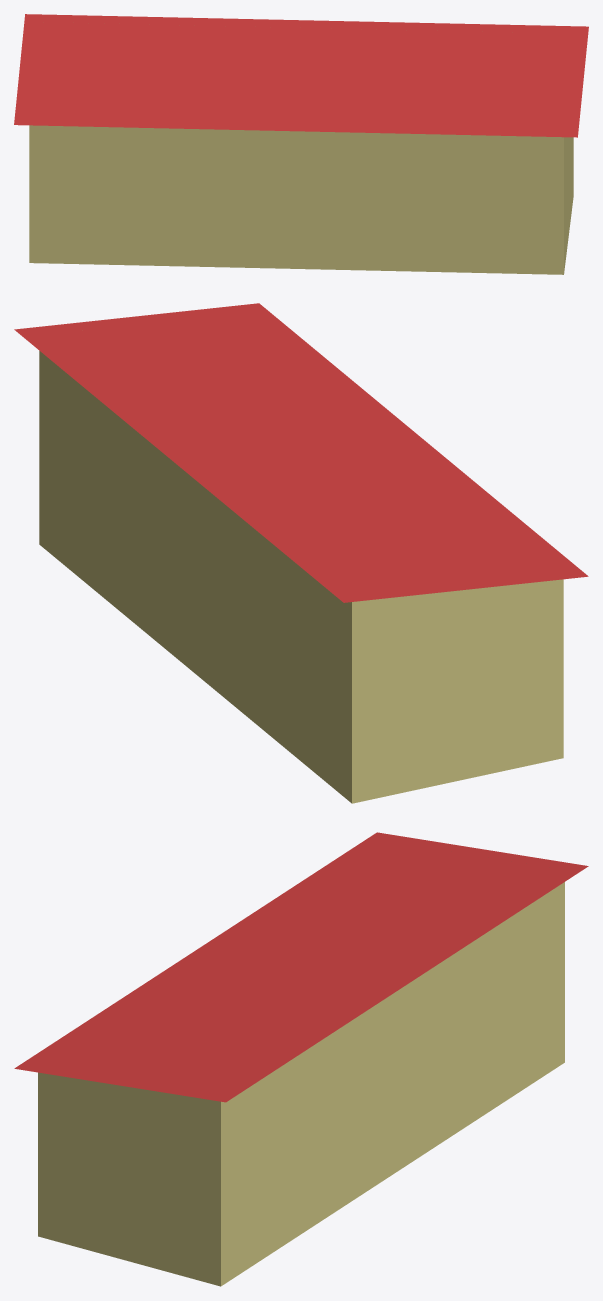
3 views of the same model, one above another, from view 1: azimuth 30°, elevation 25°; view 2: azimuth 150°, elevation 25°; view 3: azimuth 270°, elevation 25° (orthographic). The views are drawn at different scales.
Size of the model in its own units: 20.09 by 16.57 by 6.18.
